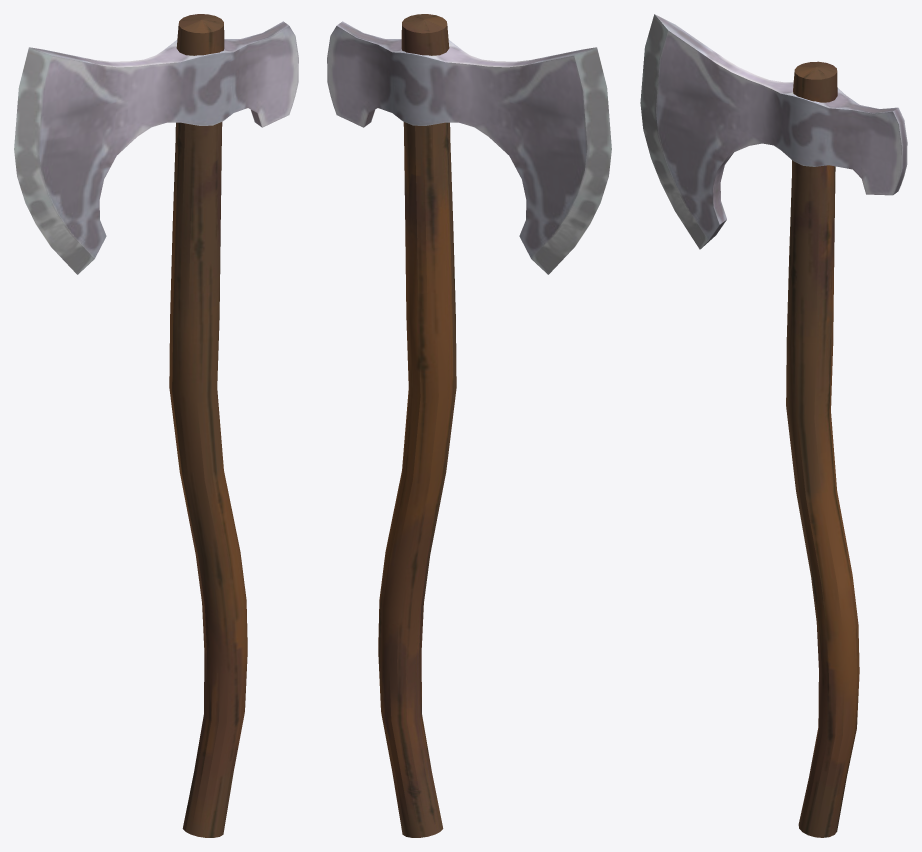
Rendered from axe.glb.
The picture shows the model from 3 angles, left to right: view 1: azimuth 30°, elevation 25°; view 2: azimuth 150°, elevation 25°; view 3: azimuth 330°, elevation 25°; orthographic projection. The views are drawn at different scales.
Parts seen in each view (by area): view 1: axe_0; view 2: axe_0; view 3: axe_0.
Boxes of the visible parts, left/top/right/bottom form: axe_0: left=14, top=14, right=298, bottom=837; axe_0: left=327, top=14, right=611, bottom=837; axe_0: left=640, top=14, right=907, bottom=837.
Size of the model in its own units: 0.2945 by 0.8269 by 0.046.
Materials: 1 (1 with a texture image).
